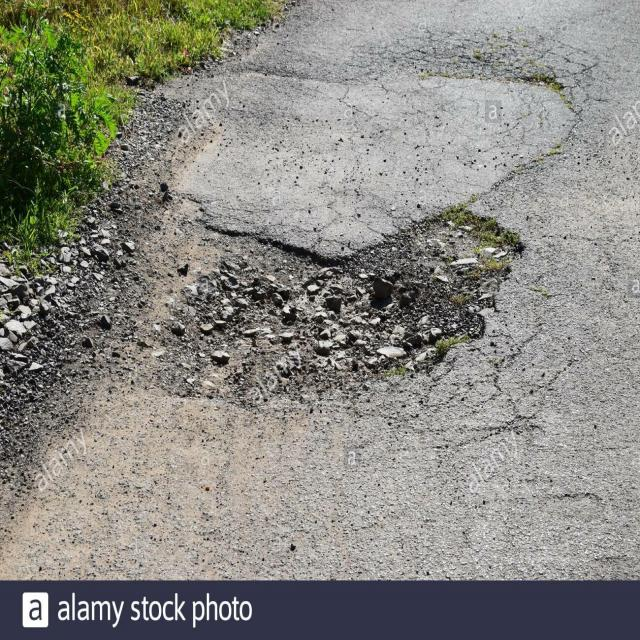Pothole: (119, 166, 550, 428)
